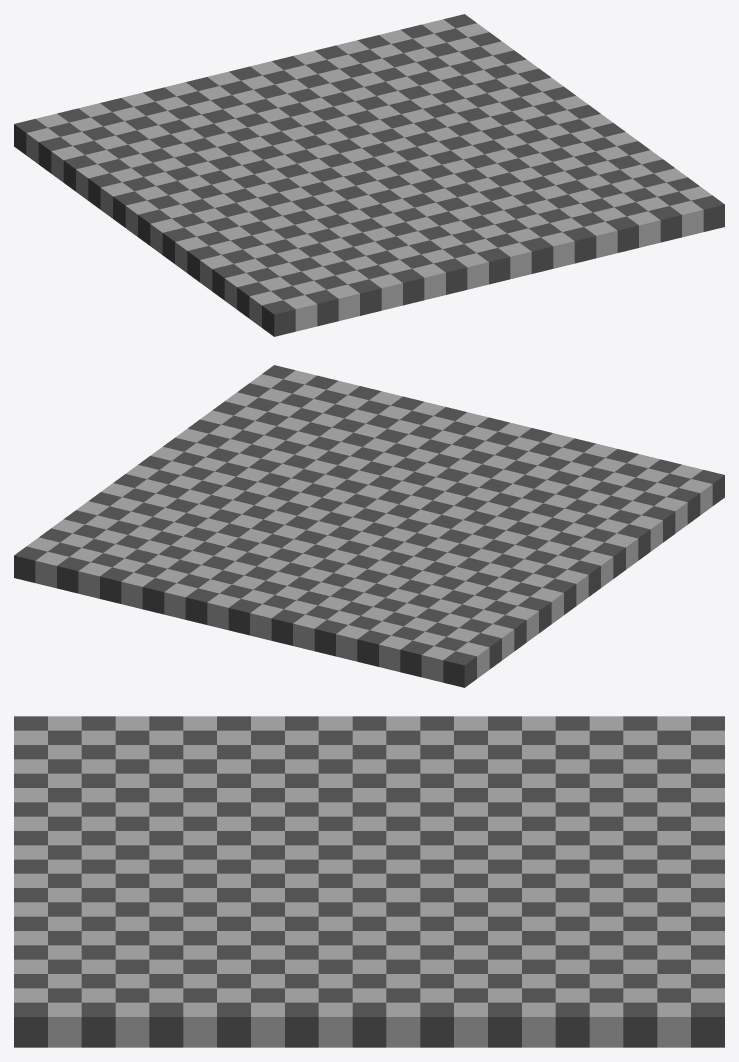
The model's file is test_ground.glb.
The picture shows the model from 3 angles, top to bottom: view 1: azimuth 30°, elevation 25°; view 2: azimuth 150°, elevation 25°; view 3: azimuth 270°, elevation 25°; orthographic projection. The views are drawn at different scales.
Visible parts, largest first — view 1: Untitled; view 2: Untitled; view 3: Untitled.
Part boxes in pixels (x1,y1,x2,y2): Untitled: (14, 14, 724, 336); Untitled: (14, 365, 724, 687); Untitled: (14, 716, 724, 1047).
Size of the model in its own units: 2.1 by 0.1 by 2.1.
1 material, 1 textured.
